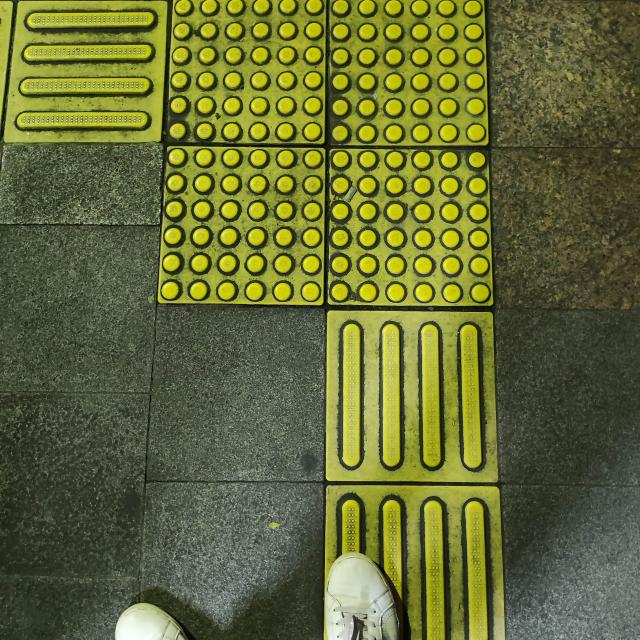kiri: (0, 0, 510, 394)
